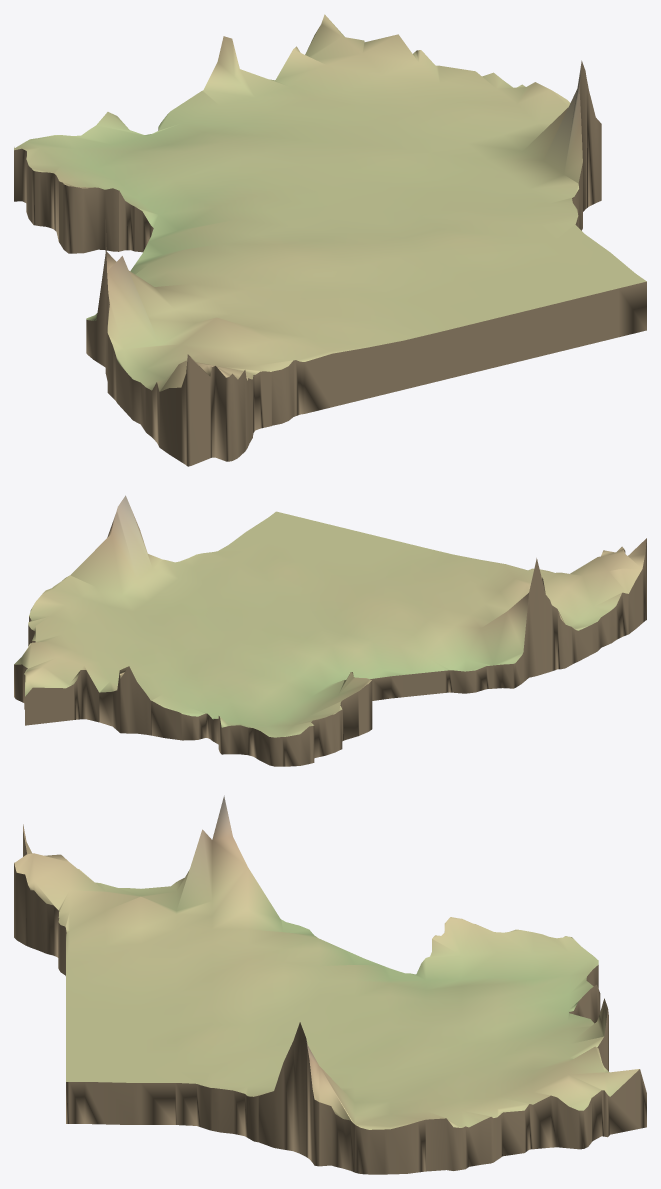
The model's file is UGA.glb.
3 renders of one model, top to bottom at view 1: azimuth 30°, elevation 25°; view 2: azimuth 150°, elevation 25°; view 3: azimuth 270°, elevation 25°, orthographic. The views are drawn at different scales.
Parts seen in each view (by area): view 1: UGA; view 2: UGA; view 3: UGA.
Part boxes in pixels (<box>): UGA: <box>14,14,646,466</box>; UGA: <box>14,495,646,766</box>; UGA: <box>14,795,646,1174</box>.
Bounding box in the file's own units: 1.32 × 0.338 × 1.39.
